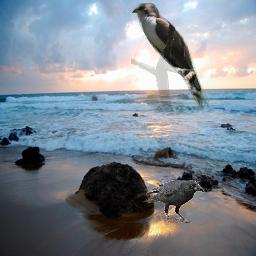Crow: (143, 180, 205, 223)
Cuckoo: (131, 3, 211, 108)
